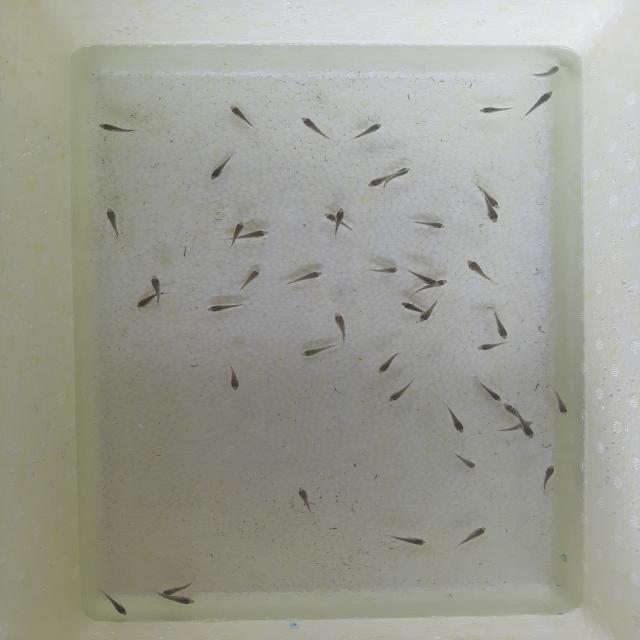fingerling: (224, 104, 264, 130), (218, 360, 246, 393), (296, 115, 333, 139), (488, 307, 514, 340), (285, 268, 326, 288), (549, 388, 575, 419), (527, 90, 555, 116), (466, 260, 494, 284), (352, 122, 386, 141), (210, 155, 235, 180), (391, 380, 419, 402), (101, 593, 129, 615), (160, 594, 203, 608), (478, 182, 503, 206), (330, 312, 352, 339), (403, 271, 441, 286), (476, 384, 504, 404), (359, 264, 398, 278), (299, 344, 335, 359), (418, 279, 455, 293), (148, 273, 165, 303), (156, 582, 195, 595), (243, 266, 264, 290), (462, 525, 488, 544), (94, 122, 135, 134), (375, 355, 397, 377), (446, 411, 466, 435), (228, 220, 248, 244), (364, 175, 392, 191), (498, 402, 526, 418), (420, 302, 440, 324), (410, 218, 446, 230), (509, 424, 544, 436), (204, 303, 242, 314), (535, 66, 563, 80), (456, 453, 479, 470), (393, 536, 428, 547), (104, 208, 120, 232), (296, 489, 316, 508), (138, 294, 159, 312), (243, 229, 274, 241), (540, 462, 556, 484), (484, 204, 502, 223), (399, 300, 422, 312), (331, 207, 348, 223), (478, 107, 516, 114), (475, 343, 501, 353)
